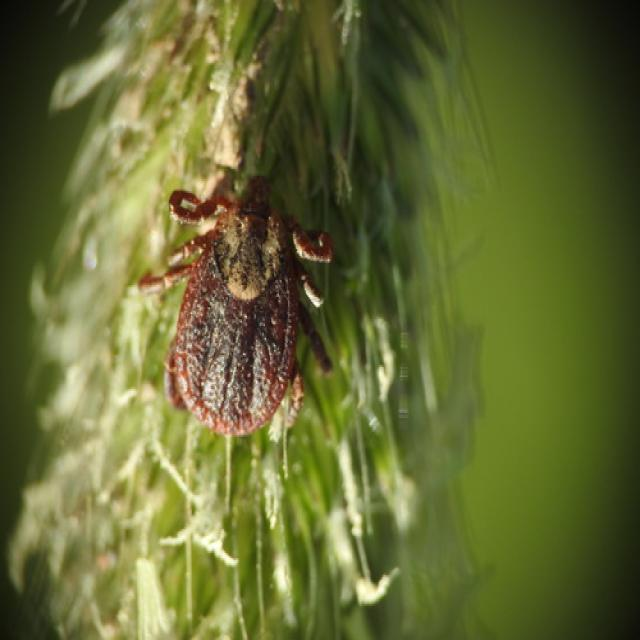Dermacentor Reticulatus-F: (138, 174, 333, 435)
